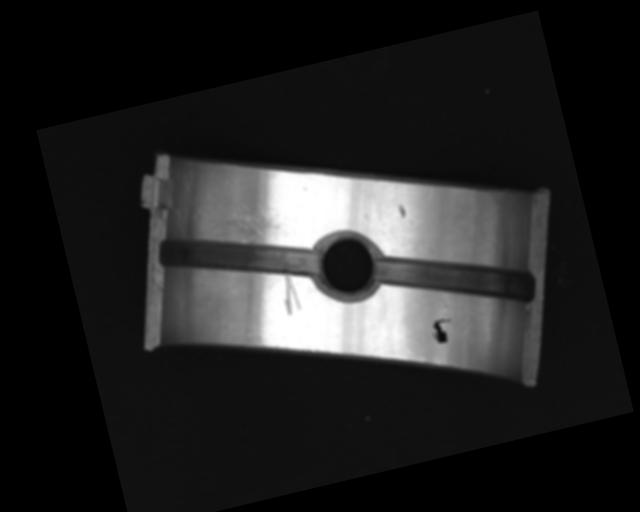blot: (429, 316, 456, 346)
bruise: (396, 202, 407, 220)
gap: (372, 224, 538, 333), (156, 207, 321, 308)
hole: (306, 225, 389, 308)
nick: (277, 271, 302, 316)
scratch: (195, 187, 296, 256)
